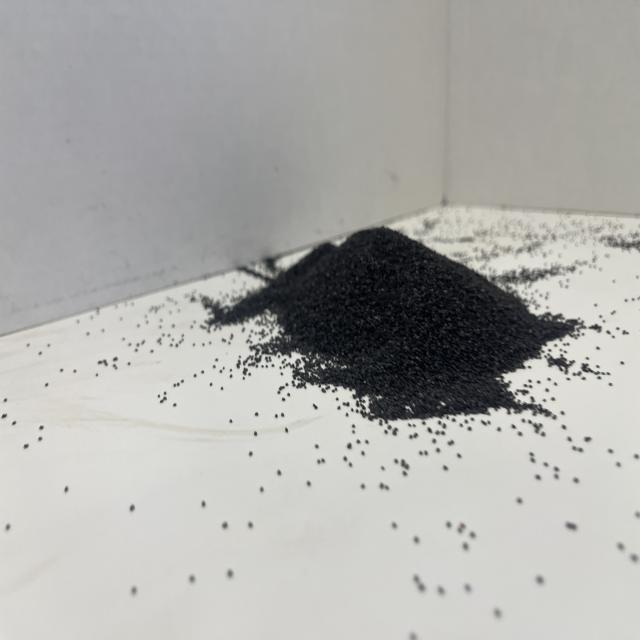Poppy Seeds: (242, 208, 577, 451)
